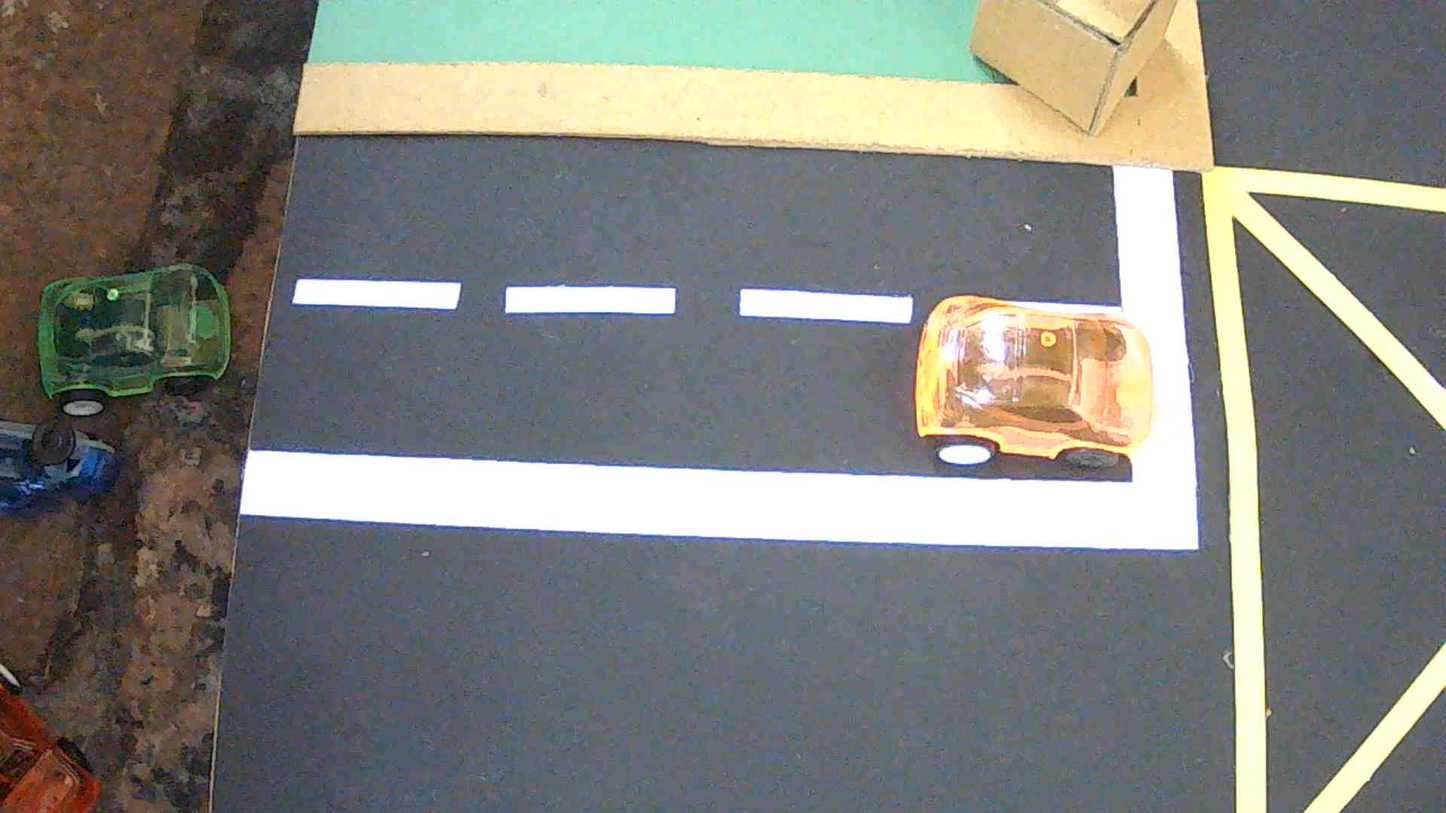Mobil orange: (914, 295, 1153, 467)
